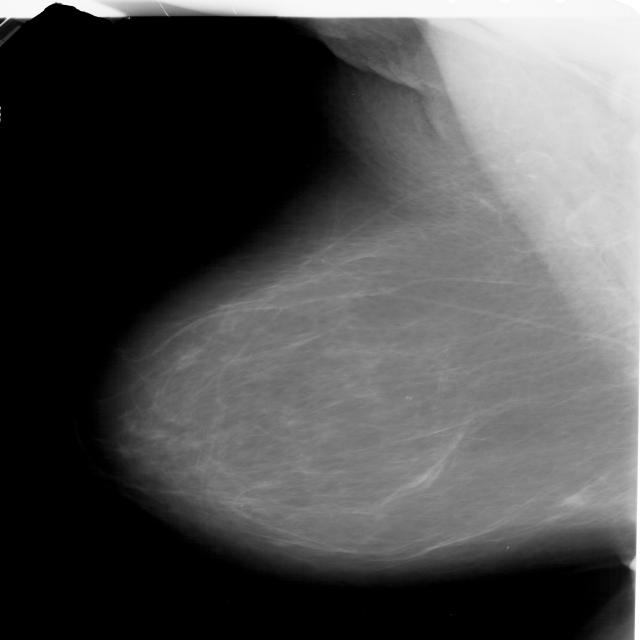normal: (79, 3, 640, 582)
